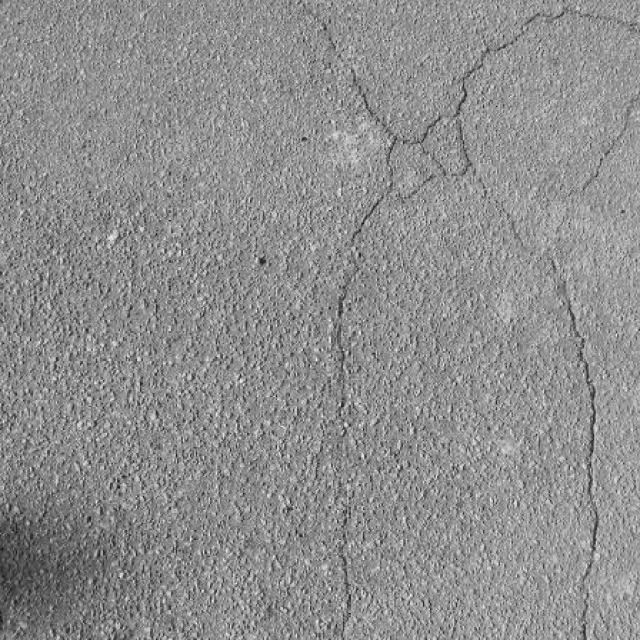Crack: (305, 7, 633, 628), (539, 249, 599, 591), (580, 100, 637, 192)
